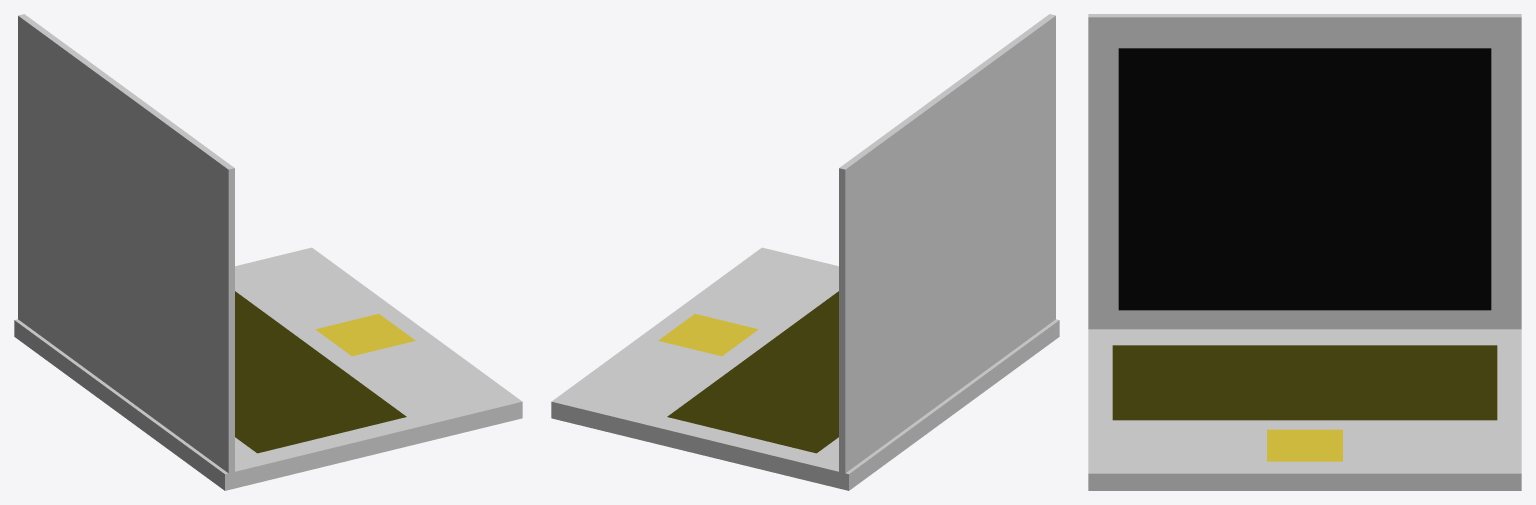
File: laptop.glb
3 views of the same model, side by side, from view 1: azimuth 30°, elevation 25°; view 2: azimuth 150°, elevation 25°; view 3: azimuth 270°, elevation 25° (orthographic). The views are drawn at different scales.
Parts seen in each view (by area): view 1: Keyboard; view 2: Keyboard; view 3: Keyboard.
Boxes of the visible parts, x1,y1,x2,y2 form: Keyboard: (14,14,522,490); Keyboard: (551,14,1059,490); Keyboard: (1088,14,1521,490).
Size of the model in its own units: 9.3 by 9.57 by 11.4.
